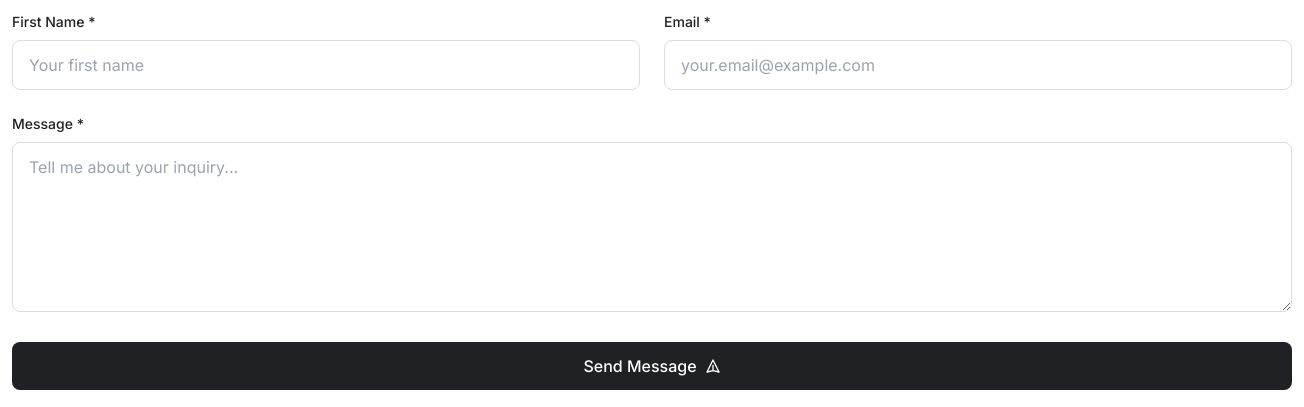
ContactForm › Form Submission › shows loading state during submission
// Fill out form
Type "John" into the field labelled "First Name *" at [326, 65], box [12, 40, 640, 90]
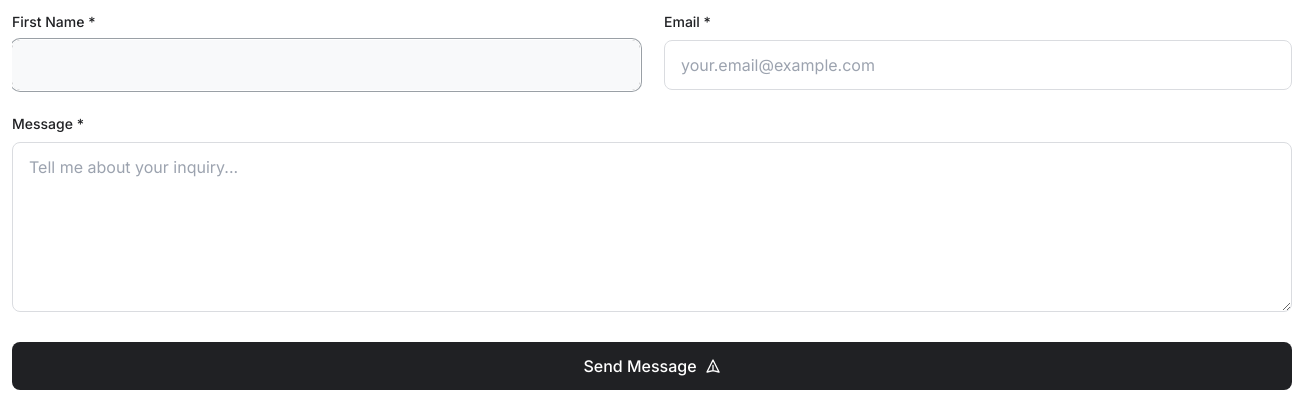
Type "john@example.com" into the field labelled "Email *" at [978, 65], box [664, 40, 1292, 90]
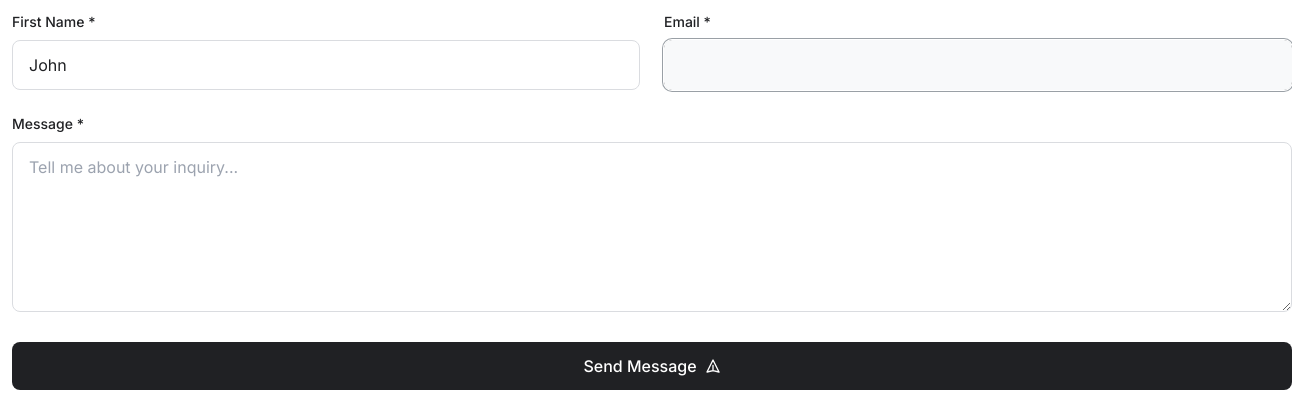
Type "This is a test message with enough characters." into the text box labelled "Message *" at [652, 227], box [12, 142, 1292, 312]
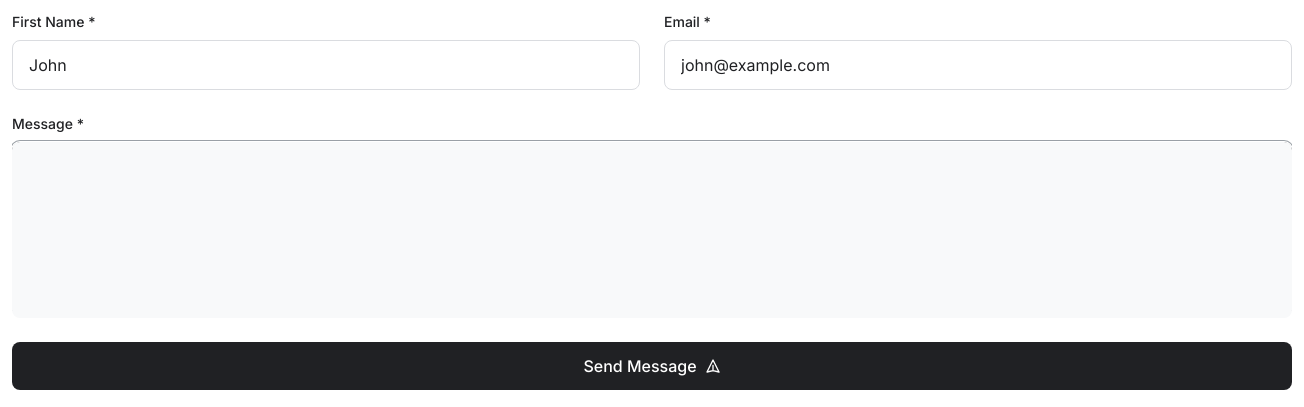
Click the button "Send Message" at [652, 366], box [12, 342, 1292, 390]
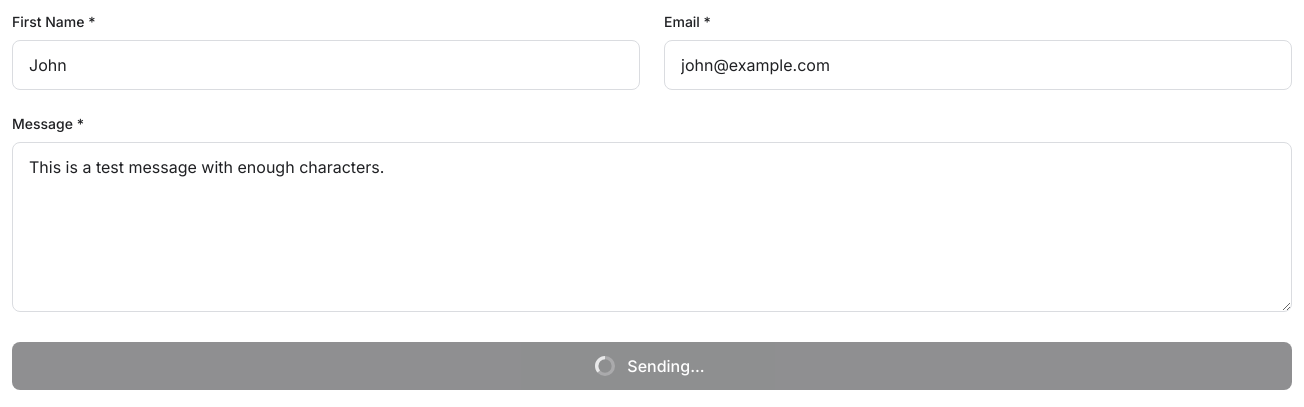
Expected: the text "Sending..." is shown, [595, 356, 705, 376]
Expected: the button named "send message" is disabled, [12, 342, 1292, 390]
